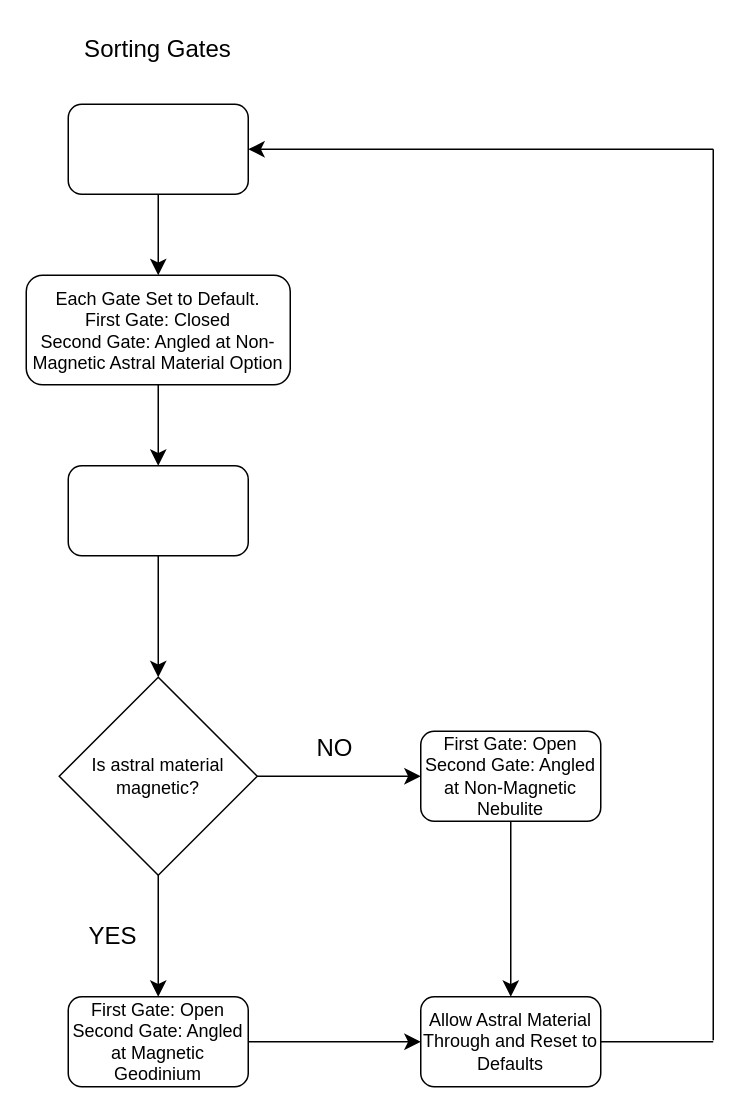
Image size: 741x1113. Some labels were removed from this diagram. Each missing label, with the centre of its shape:
Astral Material Arrives Through Chute: (157,148)
Hall Effect Sensor Scans Astral Material: (157,510)
